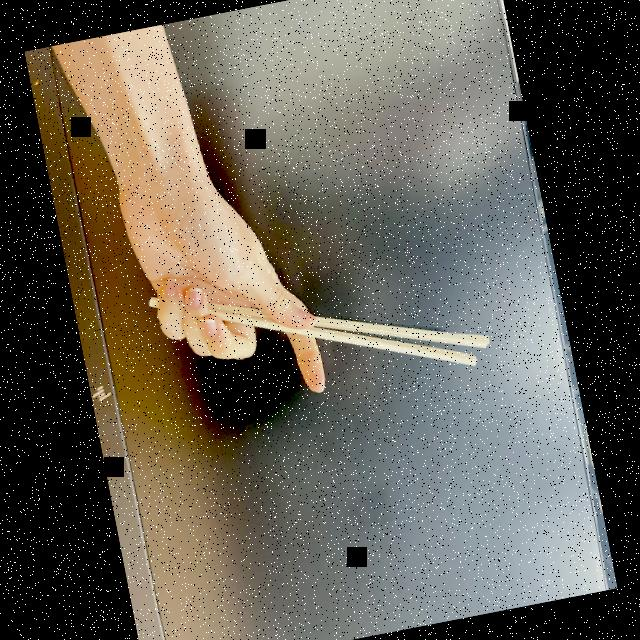stick: (114, 138, 490, 427)
